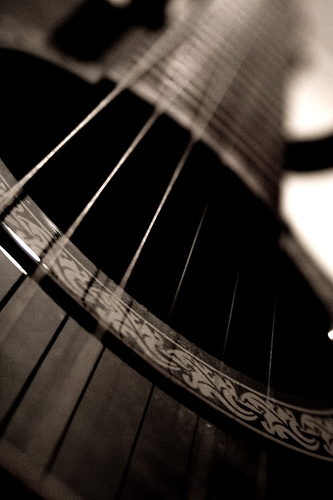guitar: (1, 1, 332, 498)
